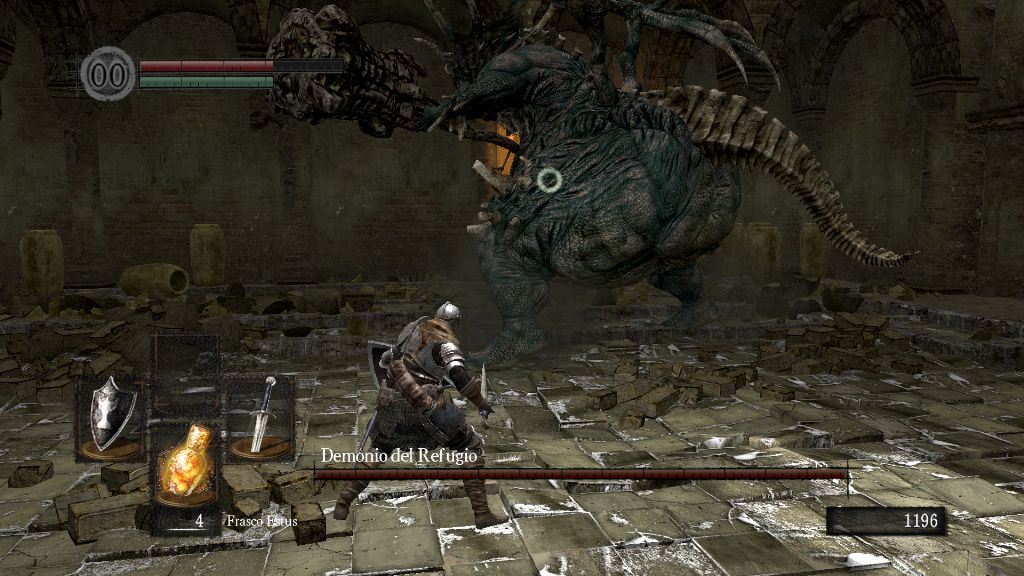asylumDemon: (267, 2, 922, 374)
bossHP: (314, 469, 847, 479)
health: (138, 58, 343, 71)
humanity: (80, 45, 136, 102)
player: (332, 299, 515, 530)
souls: (825, 506, 945, 536)
stamina: (138, 74, 274, 88)
